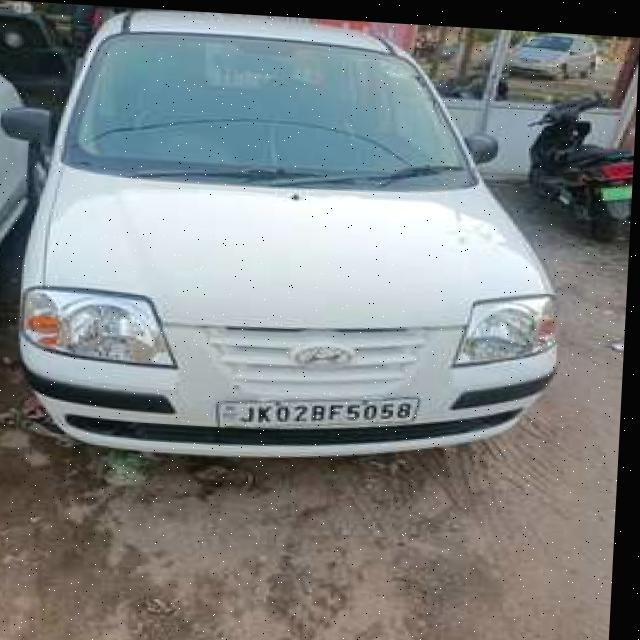plate: (219, 382, 424, 437)
